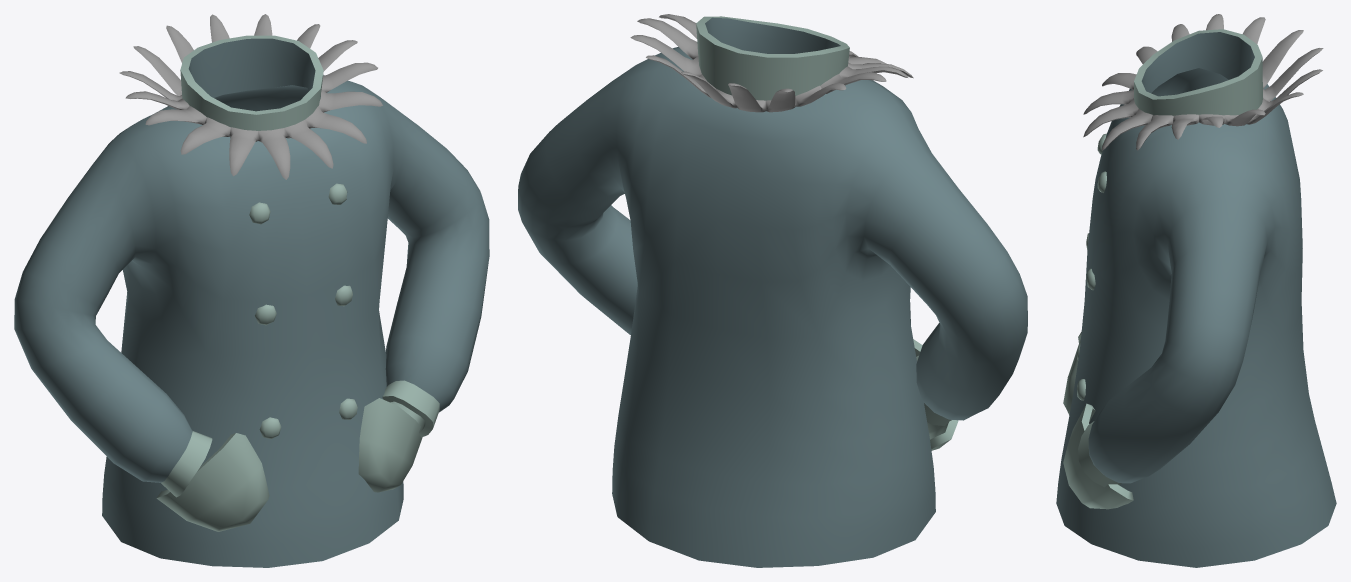
Rendered from jacket_blue.fbx.
3 views of the same model, side by side, from view 1: azimuth 30°, elevation 25°; view 2: azimuth 150°, elevation 25°; view 3: azimuth 270°, elevation 25° (orthographic). The views are drawn at different scales.
Visible parts, largest first — view 1: jacket_1_blue; view 2: jacket_1_blue; view 3: jacket_1_blue.
Part boxes in pixels (bbox=[...]): jacket_1_blue: bbox=[14, 14, 489, 567]; jacket_1_blue: bbox=[518, 14, 1027, 567]; jacket_1_blue: bbox=[1056, 14, 1336, 567].
Bounding box in the file's own units: 0.6318 × 0.3296 × 0.5819.
